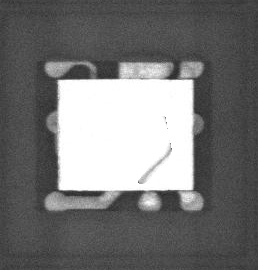DIE_INK: (138, 147, 172, 183), (163, 114, 169, 130)
